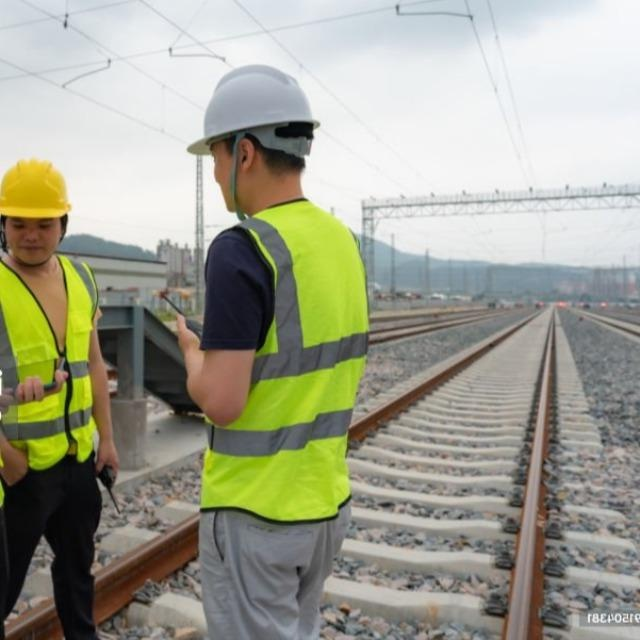Con_Casco: (183, 65, 317, 210), (0, 157, 75, 260)
Con_Chaleco: (193, 207, 370, 521), (0, 253, 99, 469)
